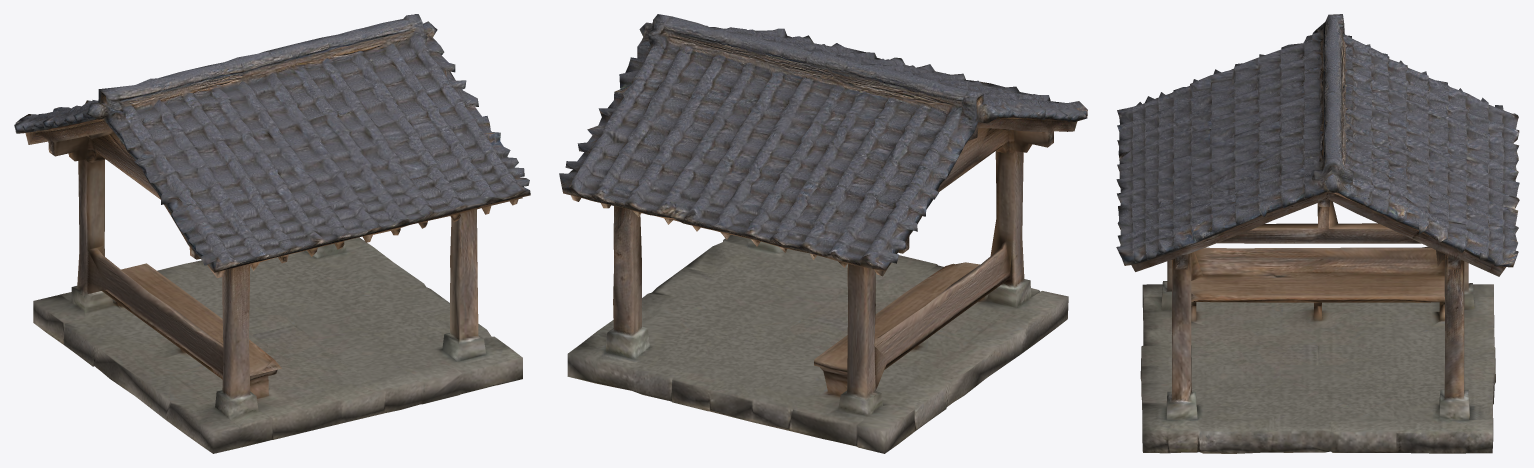
Rendered from shelter.glb.
3 renders of one model, left to right at view 1: azimuth 30°, elevation 25°; view 2: azimuth 150°, elevation 25°; view 3: azimuth 270°, elevation 25°, orthographic. The views are drawn at different scales.
Visible parts, largest first — view 1: tripo_node_6cf22790-b505-42ec-b451-443aa0488927; view 2: tripo_node_6cf22790-b505-42ec-b451-443aa0488927; view 3: tripo_node_6cf22790-b505-42ec-b451-443aa0488927.
Boxes of the visible parts, x1=… form: tripo_node_6cf22790-b505-42ec-b451-443aa0488927: x1=14, y1=14, x2=530, y2=453; tripo_node_6cf22790-b505-42ec-b451-443aa0488927: x1=559, y1=14, x2=1087, y2=453; tripo_node_6cf22790-b505-42ec-b451-443aa0488927: x1=1116, y1=14, x2=1519, y2=453.
Bounding box in the file's own units: 6.64 × 5.37 × 6.8.
Materials: 1 (1 with a texture image).
